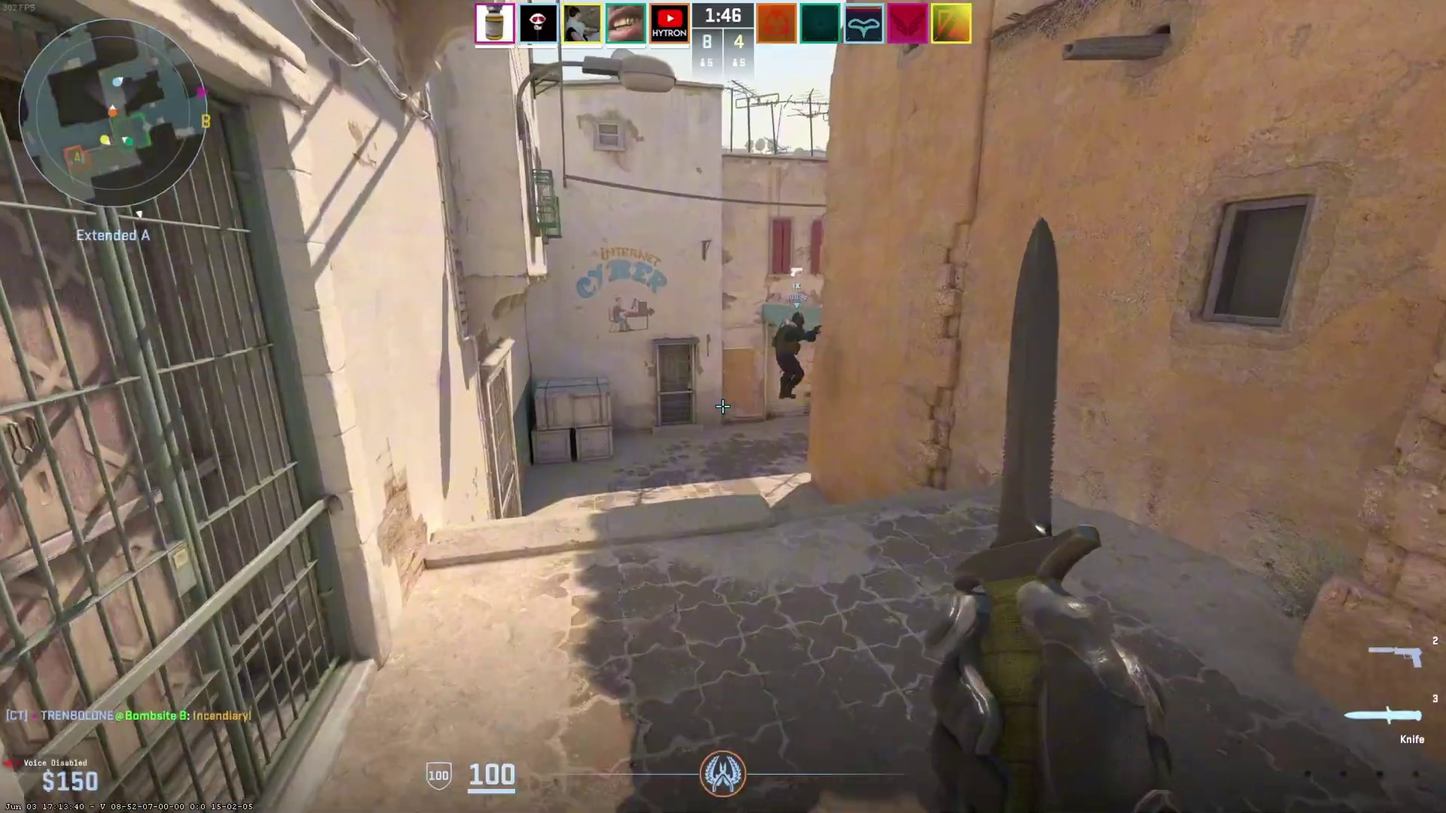CT: (777, 312, 812, 398)
